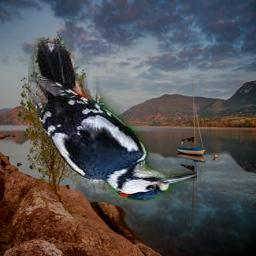Woodpecker: (28, 37, 197, 201)
